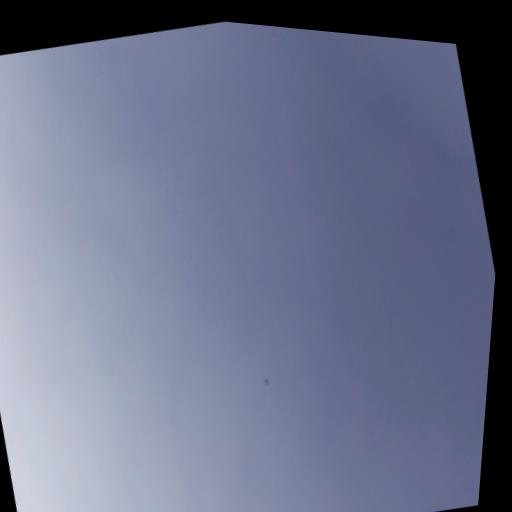drones: (262, 376, 273, 389)
